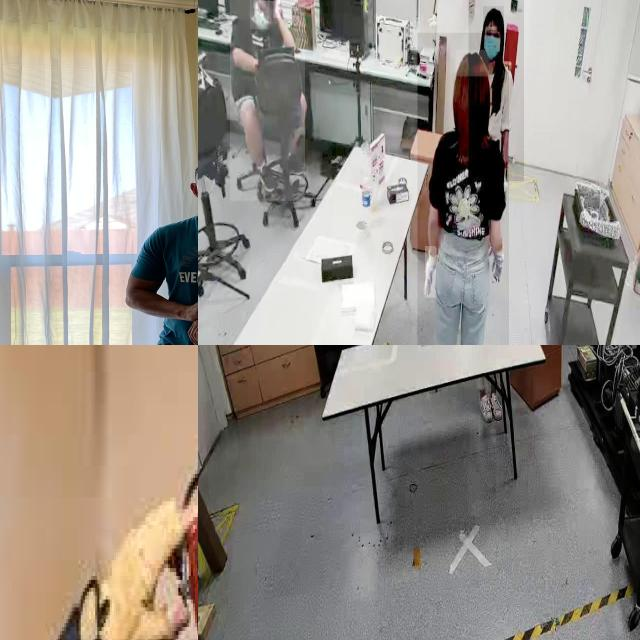No_Ear-Protection: (190, 181, 198, 198)
face_mask: (250, 0, 270, 30), (484, 30, 500, 59)
hand_glove: (490, 243, 506, 290), (425, 246, 437, 299)
hand_noglove: (273, 0, 280, 18)
head_nohelmet: (455, 50, 489, 77), (483, 6, 505, 28)
person: (417, 32, 509, 345), (230, 0, 305, 201), (468, 0, 524, 182)
shoes: (255, 154, 279, 199), (477, 389, 493, 425), (488, 389, 504, 422)
